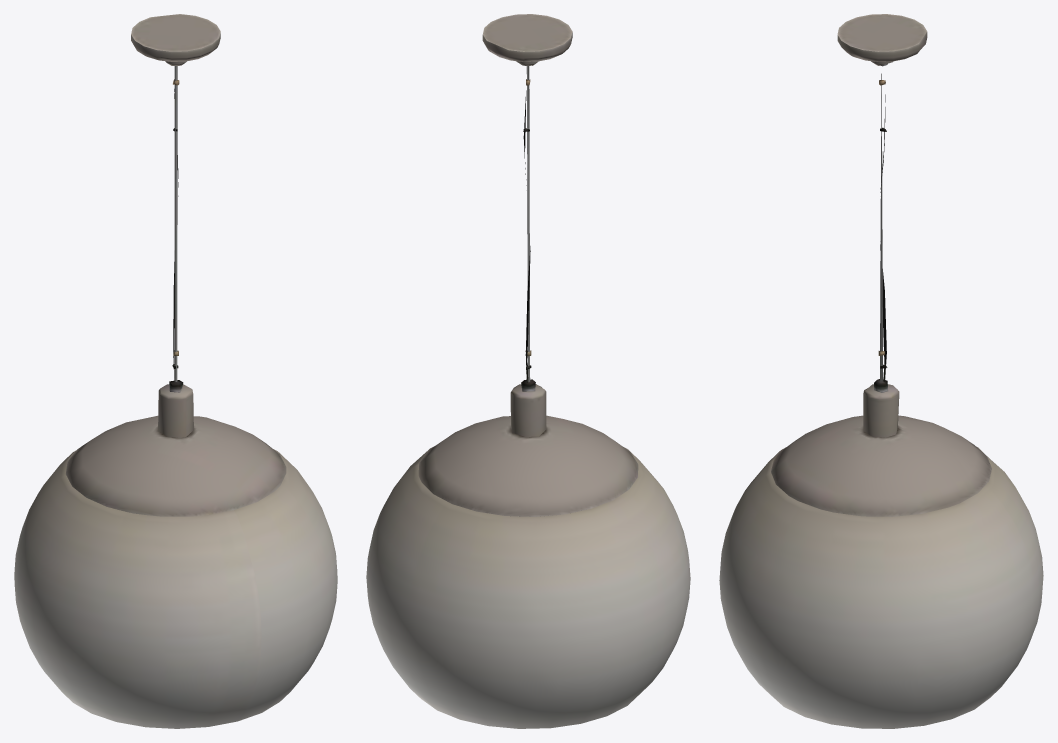
Rendered from modern_ceiling_lamp_01_2k.glb.
3 views of the same model, side by side, from view 1: azimuth 30°, elevation 25°; view 2: azimuth 150°, elevation 25°; view 3: azimuth 270°, elevation 25° (orthographic).
Parts seen in each view (by area): view 1: modern_ceiling_lamp_01; view 2: modern_ceiling_lamp_01; view 3: modern_ceiling_lamp_01.
Boxes of the visible parts, bbox=[...] form: modern_ceiling_lamp_01: bbox=[14, 14, 337, 728]; modern_ceiling_lamp_01: bbox=[366, 14, 690, 728]; modern_ceiling_lamp_01: bbox=[719, 14, 1043, 728].
Size of the model in its own units: 0.4316 by 0.9512 by 0.4316.
Materials: 2 (2 with a texture image).
